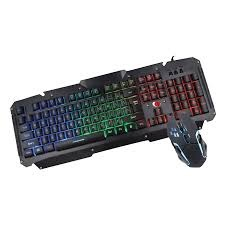keyboard: (10, 82, 213, 157)
mouse: (168, 115, 210, 172)
